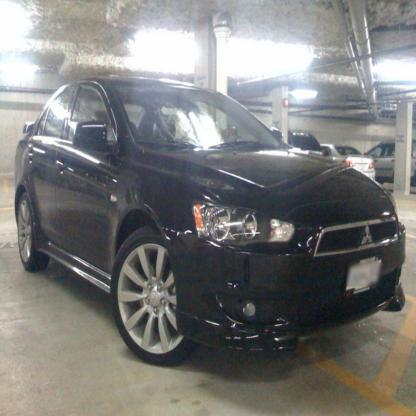Car: (14, 74, 407, 358), (272, 128, 414, 186)
